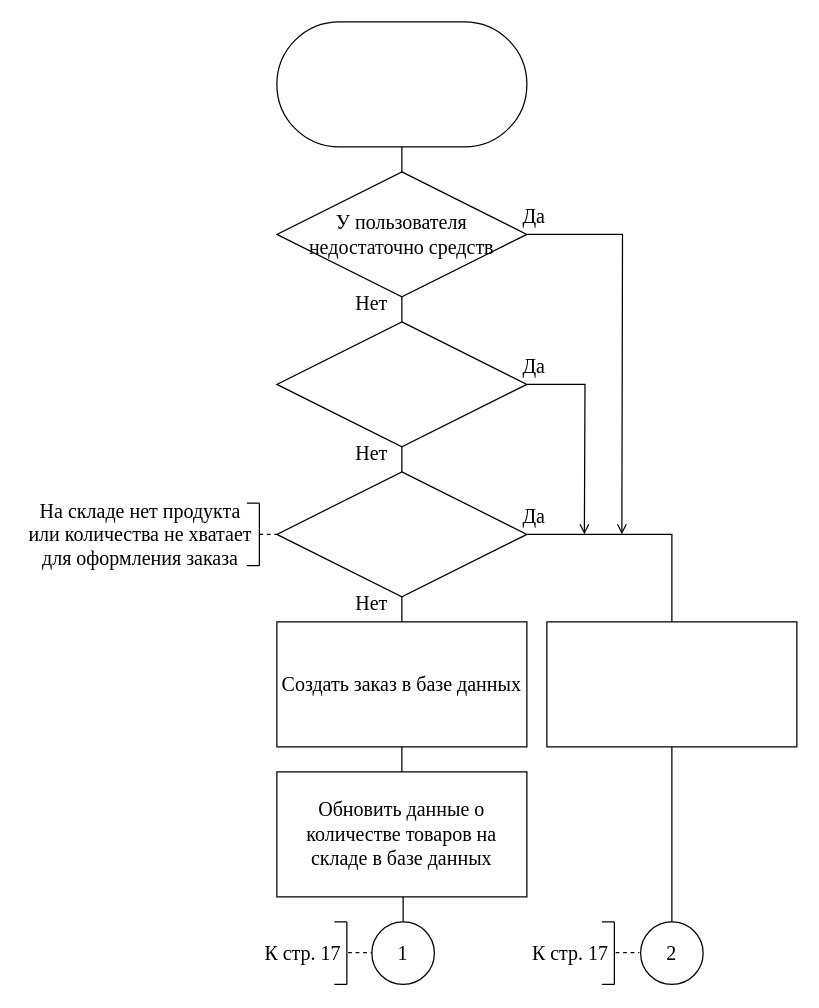
This 819x1008 diagram has some shape labels left out. Here are the shapes that lost their labels. From the top down, the box of each, then its label:
(276, 21, 527, 147): Вход makeOrder (user, cart)
(276, 321, 527, 447): Корзина пустая
(546, 621, 797, 747): Вывести информацию о том, что заказ не был оформлен
